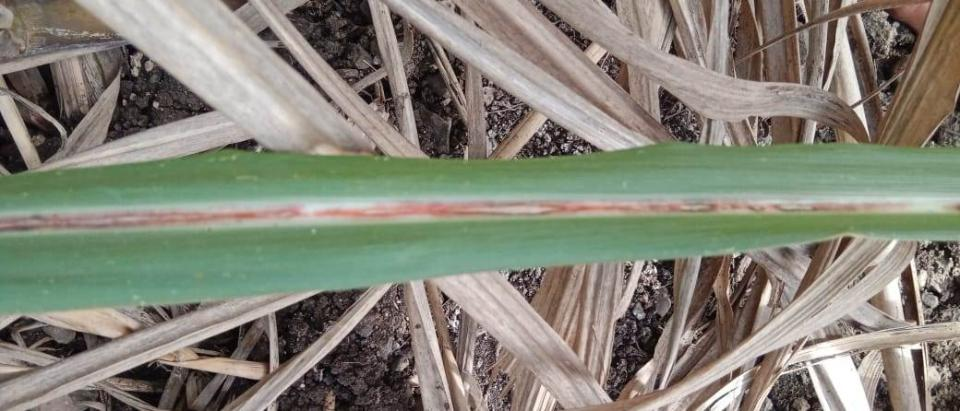RedRot: (0, 201, 911, 234)
